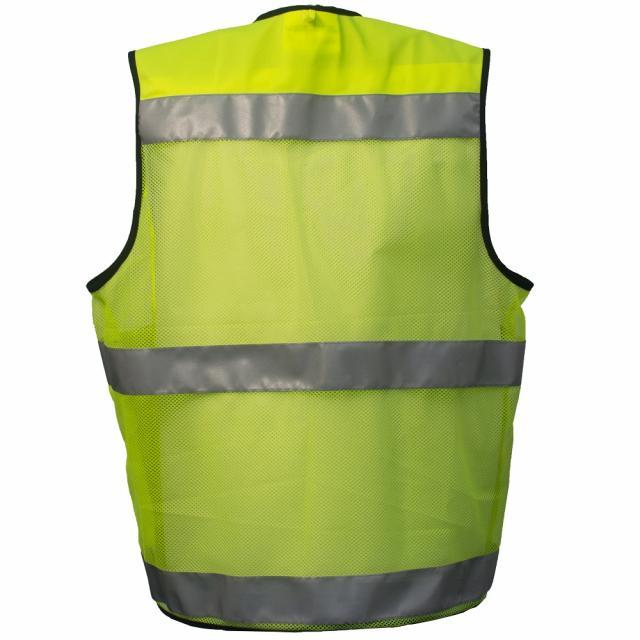reflective_jacket: (58, 0, 566, 639)
